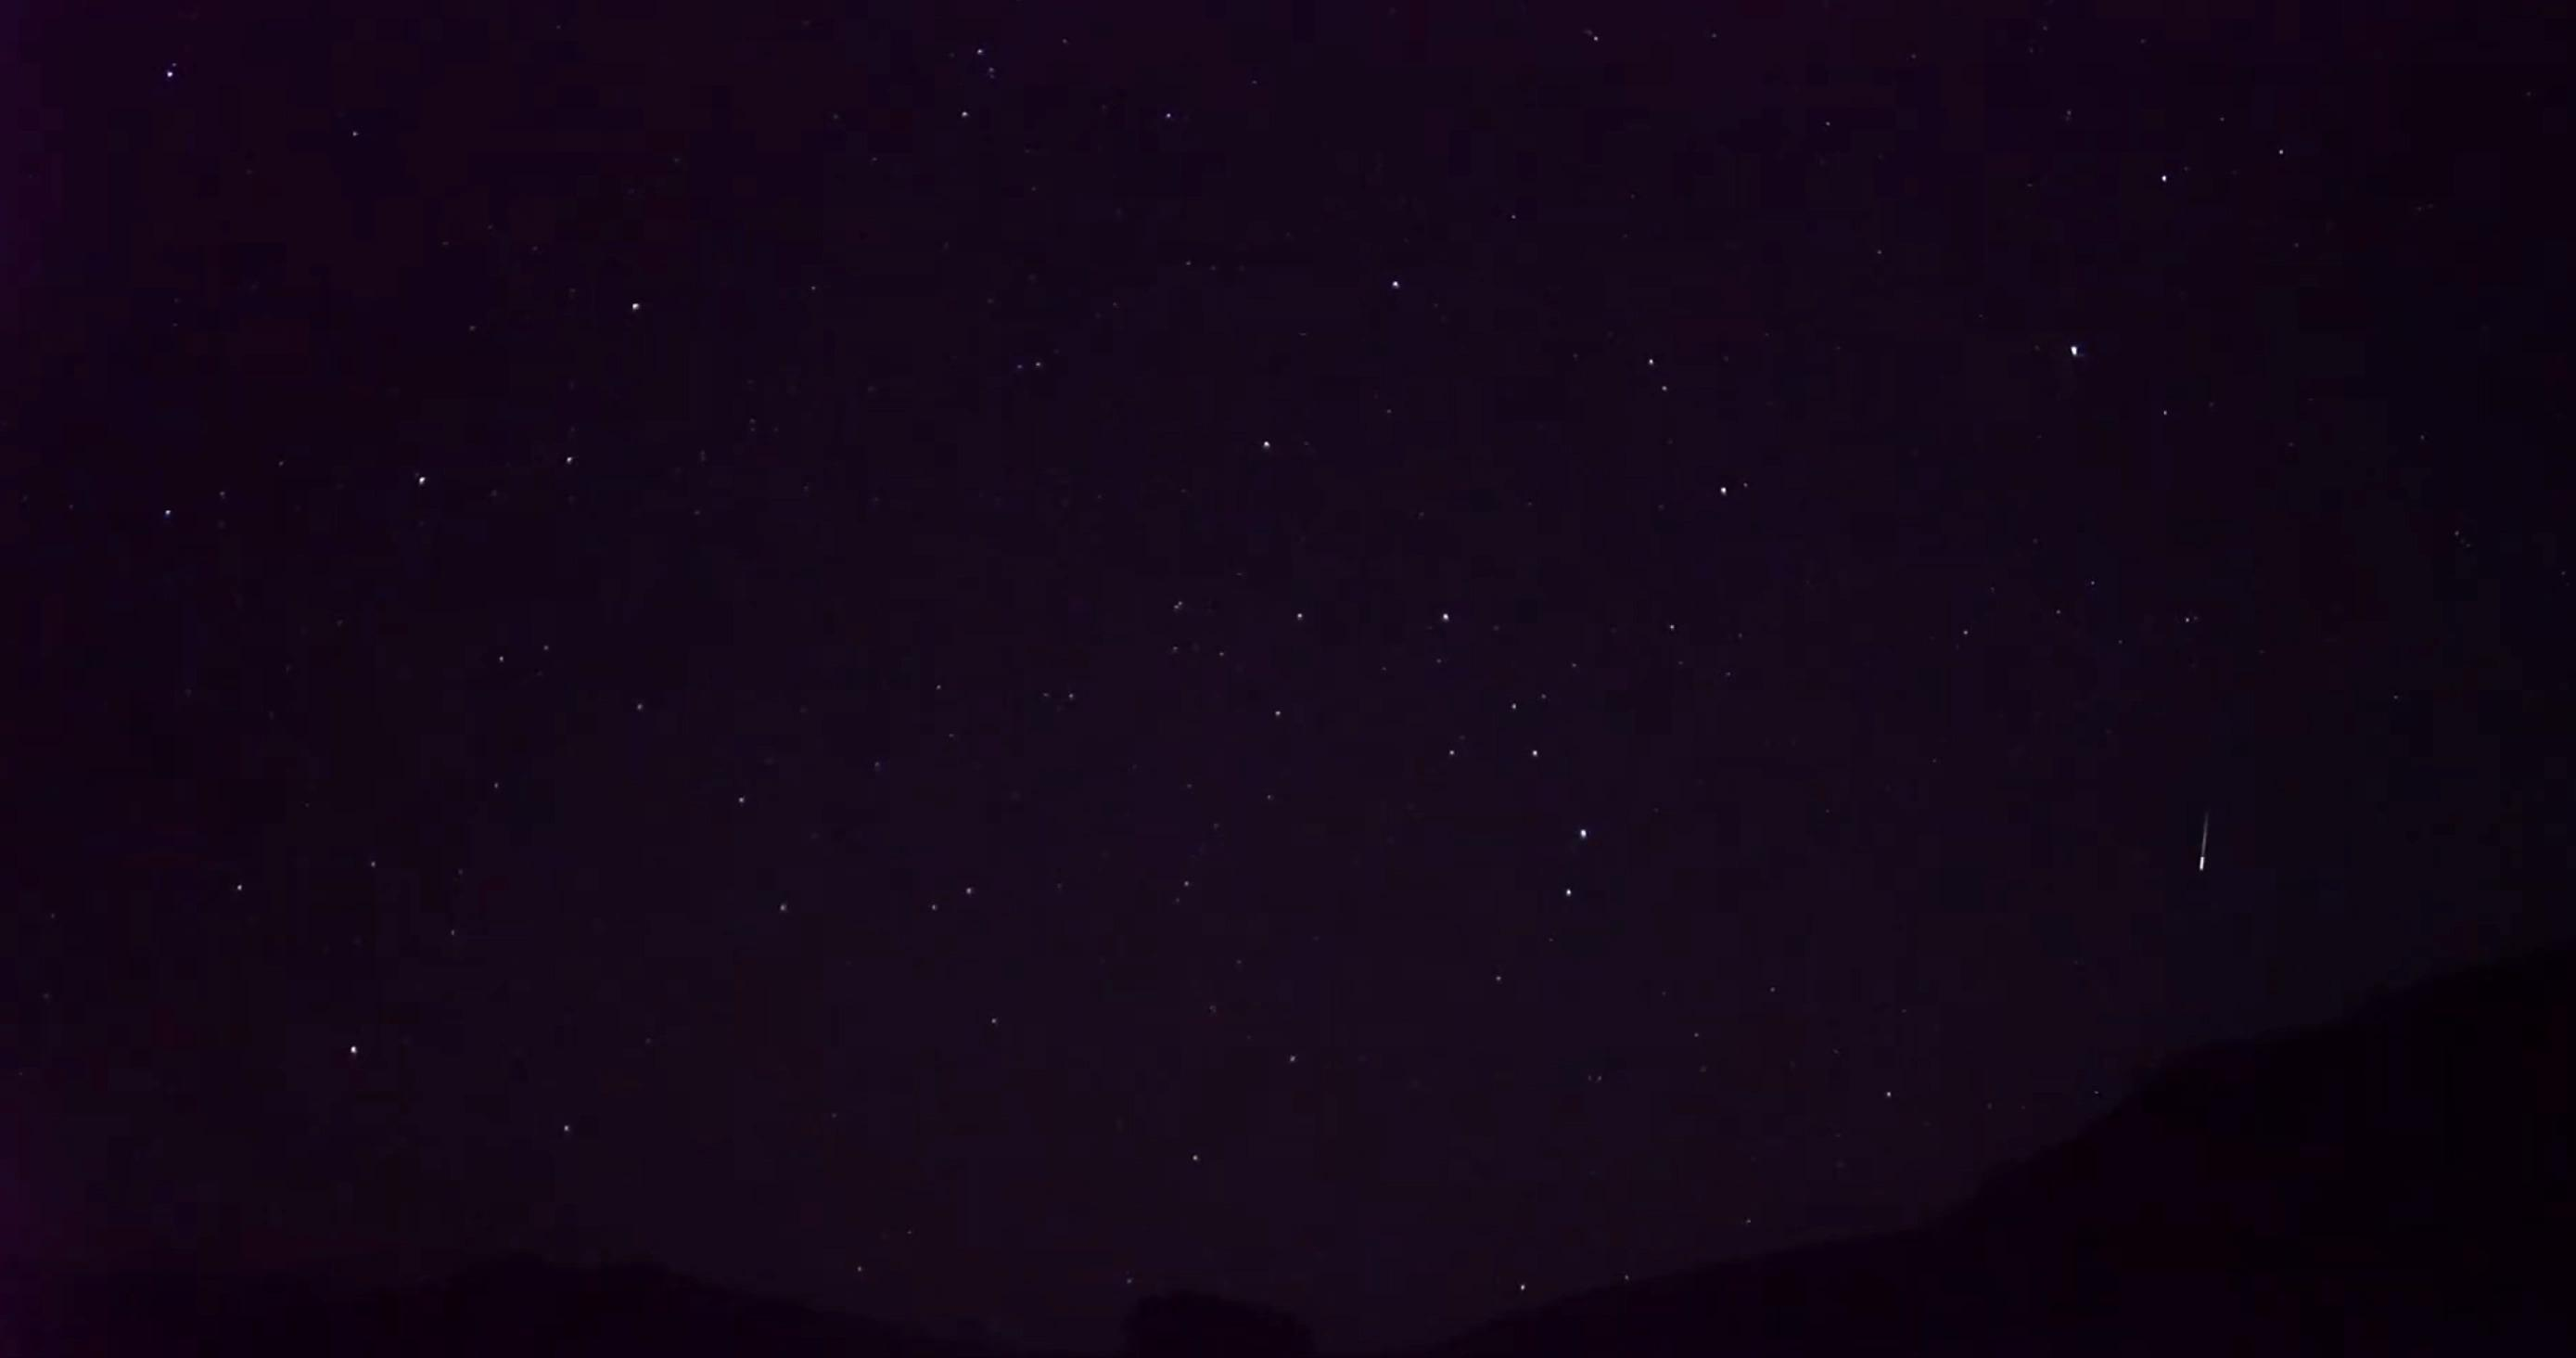meteorite: (2145, 804, 2259, 886)
